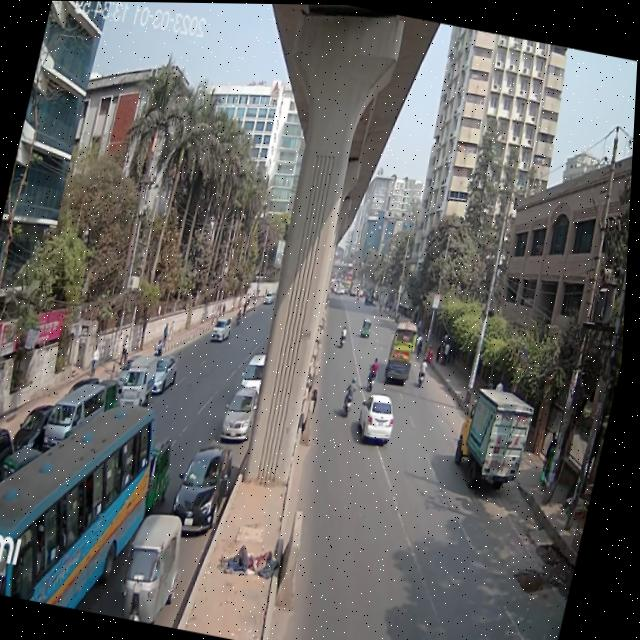cng: (360, 310, 378, 343)
